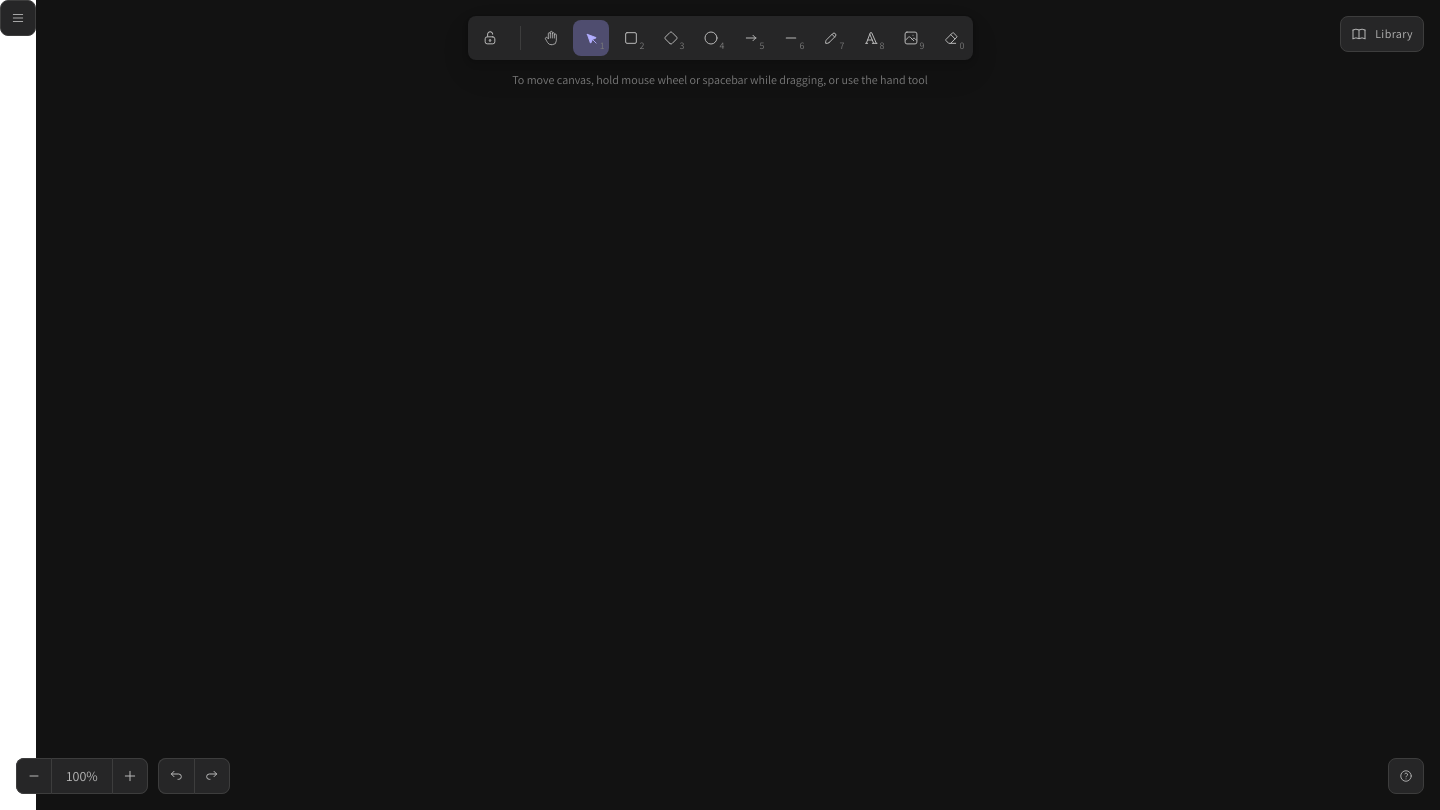
Test: <Excalidraw/> › Test theme prop › should show theme mode toggle when `UIOptions.canvasActions.toggleTheme` is true
Click the button with class "dropdown-menu-button": {"x": 18, "y": 18} [0, 0, 36, 36]
(page scrolled)
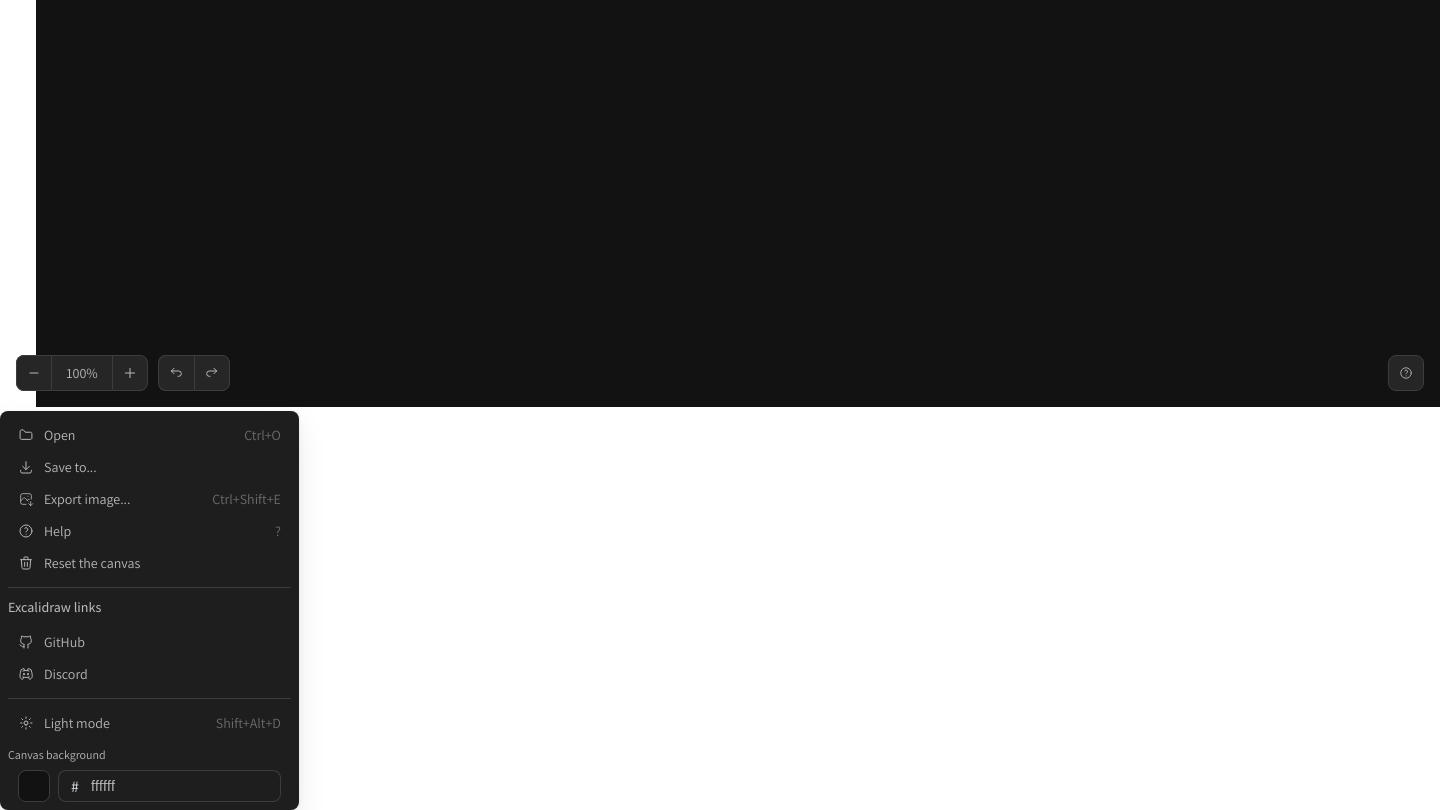
Expected: the button with test id "toggle-dark-mode" is shown, [8, 707, 291, 739]
